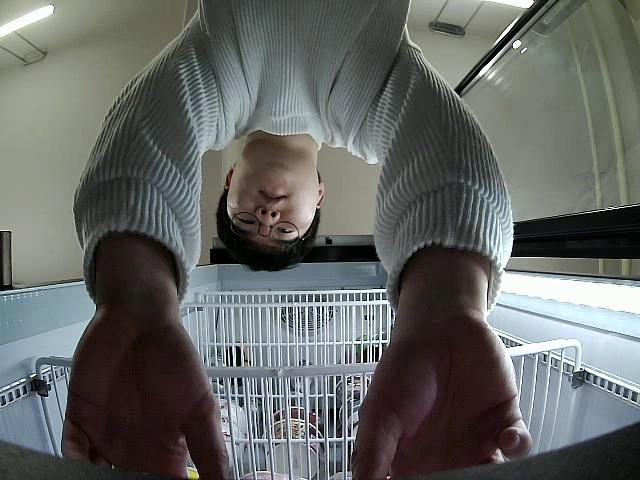00_hand: (353, 311, 534, 480), (61, 313, 231, 480)
